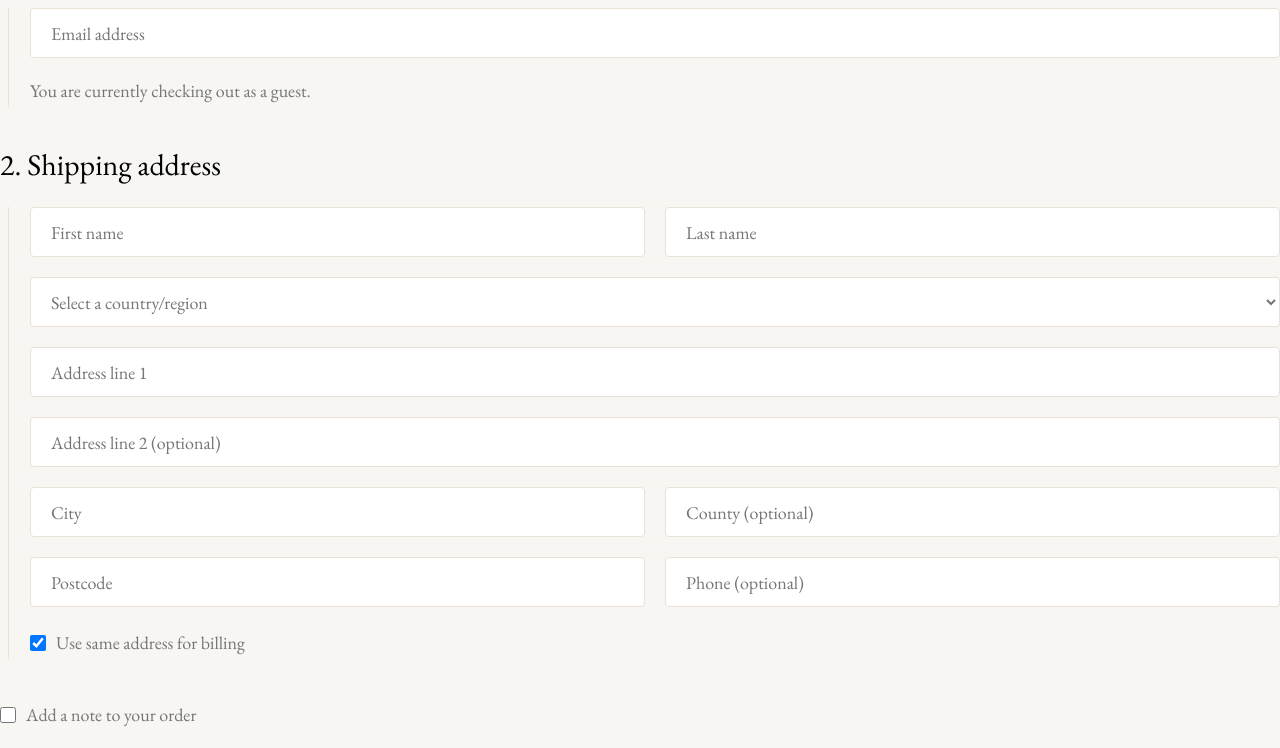
Test: Form component › renders billing address fieldset after checkbox ticked
This screenshot has width=1280, height=748.
Click the checkbox labelled "Use same address for billing".
click(38, 643)  # box left=30, top=635, right=46, bottom=651
(page scrolled)
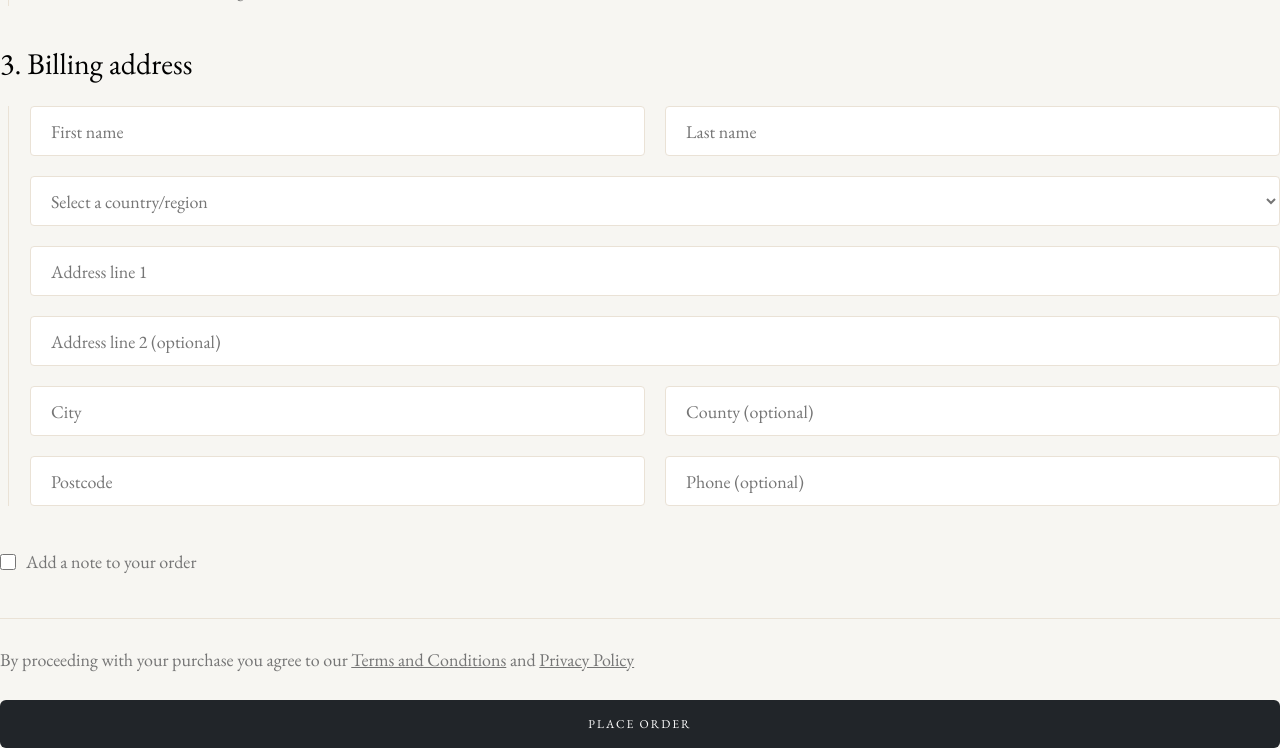
Expected: the element "3. Billing address" is shown
Expected: the field labelled "First name" is shown, left=30, top=106, right=645, bottom=156
Expected: the field labelled "Last name" is shown, left=665, top=106, right=1279, bottom=156
